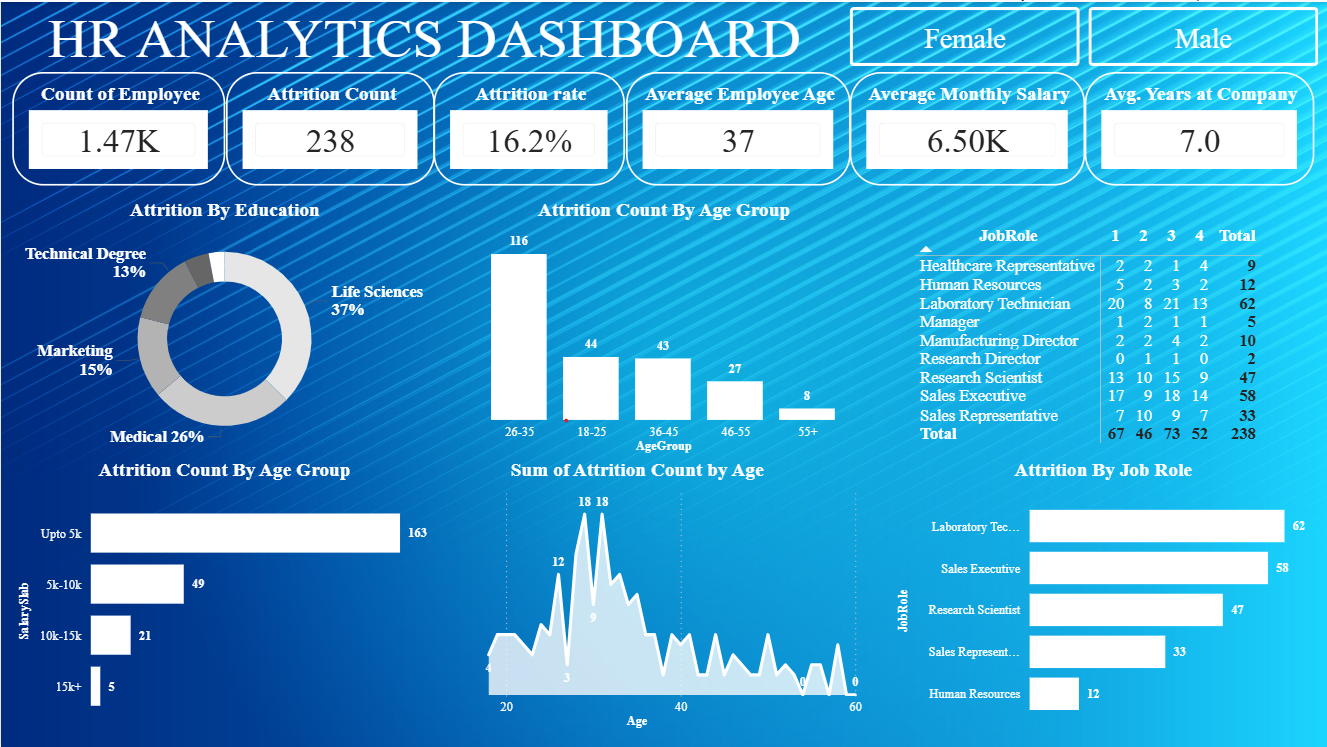

This screenshot's page, from the dashboard's own definition file:
{"tool":"powerbi","page":{"name":"Page 1","canvas":[1280,720],"ordinal":0},"visuals":[{"type":"cardVisual","title":"Count of Employee","fields":{"Data":["Count(HR_Analytics.EmpID)"]},"box":[10.7,67.1,206,109.8],"z":0},{"type":"cardVisual","title":"Attrition Count","fields":{"Data":["HR_Analytics.AttritionCount"]},"box":[216.6,67.1,201.4,109.8],"z":1000},{"type":"cardVisual","title":"Attrition rate","fields":{"Data":["HR_Analytics.Attrition Rate"]},"box":[418,67.1,184.6,109.8],"z":2000},{"type":"cardVisual","title":"Average Employee Age","fields":{"Data":["Avg(HR_Analytics.Age)"]},"box":[602.6,67.1,216.6,109.8],"z":3000},{"type":"cardVisual","title":"Average Monthly Salary","fields":{"Data":["Avg(HR_Analytics.MonthlyIncome)"]},"box":[819.3,67.1,227.3,109.8],"z":4000},{"type":"cardVisual","title":"Avg. Years at Company","fields":{"Data":["Avg(HR_Analytics.YearsAtCompany)"]},"box":[1046.6,67.1,221.2,109.8],"z":5000},{"type":"donutChart","title":"Attrition By Education","fields":{"Category":["HR_Analytics.EducationField"],"Y":["Sum(HR_Analytics.Attrition Count)"]},"box":[12.1,189.4,407.8,250.9],"z":6000},{"type":"columnChart","title":"Attrition Count By Age Group","fields":{"Category":["HR_Analytics.AgeGroup"],"Y":["Sum(HR_Analytics.Attrition Count)"]},"box":[440.4,189.4,399.3,250.9],"z":7000},{"type":"pivotTable","fields":{"Rows":["HR_Analytics.JobRole"],"Columns":["HR_Analytics.JobSatisfaction"],"Values":["Sum(HR_Analytics.Attrition Count)"]},"box":[877.2,210.5,390.6,230.4],"z":8000},{"type":"barChart","title":"Attrition Count By Age Group","fields":{"Category":["HR_Analytics.SalarySlab"],"Y":["Sum(HR_Analytics.Attrition Count)"]},"box":[12.2,440.9,407.3,265.5],"z":9000},{"type":"areaChart","fields":{"Category":["HR_Analytics.Age"],"Y":["Sum(HR_Analytics.Attrition Count)"]},"box":[388.5,440.4,451.2,265.4],"z":10000},{"type":"barChart","title":"Attrition By Job Role","fields":{"Category":["HR_Analytics.JobRole"],"Y":["Sum(HR_Analytics.Attrition Count)"]},"box":[860.5,440.9,407.3,265.5],"z":11000},{"type":"textbox","box":[12.2,0,793.3,76.3],"z":12000},{"type":"advancedSlicerVisual","fields":{"Values":["HR_Analytics.Gender"]},"box":[814.3,0,462.1,67.6],"z":13000}]}

Visuals, with their boxes in screenshot pixels (x1, y1, x2, y2), scaled from the page's 1280x720 canvas onto the 1327x747 screenshot:
"Count of Employee" cardVisual: [x1=11, y1=70, x2=225, y2=184]
"Attrition Count" cardVisual: [x1=225, y1=70, x2=433, y2=184]
"Attrition rate" cardVisual: [x1=433, y1=70, x2=625, y2=184]
"Average Employee Age" cardVisual: [x1=625, y1=70, x2=849, y2=184]
"Average Monthly Salary" cardVisual: [x1=849, y1=70, x2=1085, y2=184]
"Avg. Years at Company" cardVisual: [x1=1085, y1=70, x2=1314, y2=184]
"Attrition By Education" donutChart: [x1=13, y1=197, x2=435, y2=457]
"Attrition Count By Age Group" columnChart: [x1=457, y1=197, x2=871, y2=457]
pivotTable - HR_Analytics.JobRole x HR_Analytics.JobSatisfaction: [x1=909, y1=218, x2=1314, y2=457]
"Attrition Count By Age Group" barChart: [x1=13, y1=457, x2=435, y2=733]
areaChart - HR_Analytics.Age x Sum(HR_Analytics.Attrition Count): [x1=403, y1=457, x2=871, y2=732]
"Attrition By Job Role" barChart: [x1=892, y1=457, x2=1314, y2=733]
textbox: [x1=13, y1=0, x2=835, y2=79]
advancedSlicerVisual - HR_Analytics.Gender: [x1=844, y1=0, x2=1323, y2=70]
